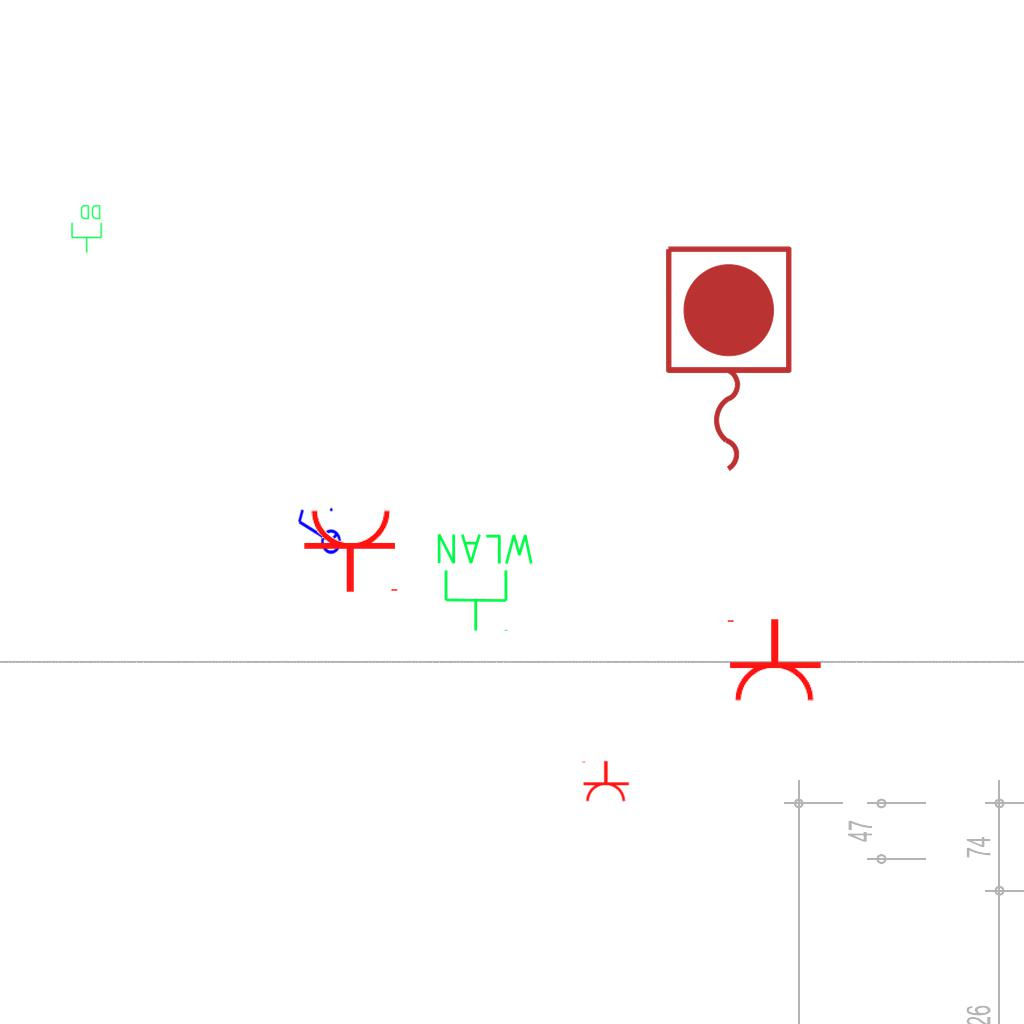Ausschalter_beleuchtet: (294, 505, 342, 561)
Datenanschluss_zweifach: (70, 203, 104, 254)
Schukosteckdose_einfach: (723, 617, 823, 704), (302, 507, 402, 594), (580, 760, 630, 803)
WLAN: (433, 530, 538, 634)
Zugtaster: (655, 238, 799, 482)
